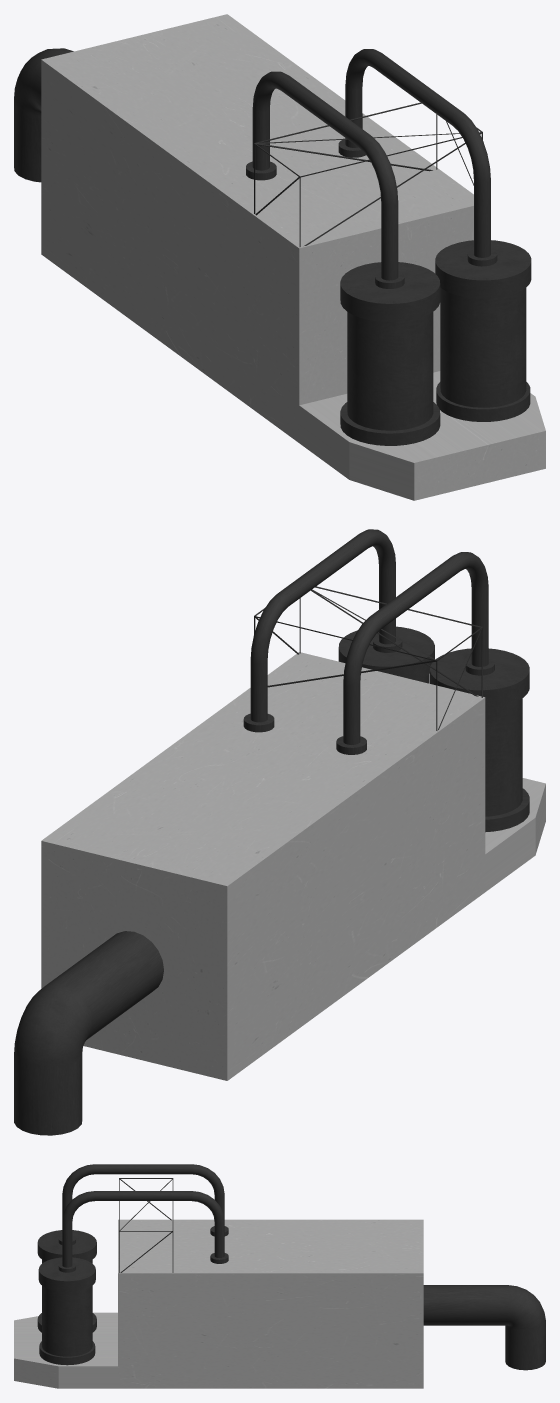
The model's file is epurateur.fbx.
3 renders of one model, top to bottom at view 1: azimuth 30°, elevation 25°; view 2: azimuth 150°, elevation 25°; view 3: azimuth 270°, elevation 25°, orthographic. The views are drawn at different scales.
Visible parts, largest first — view 1: Cube, Cylinder.001, Cylinder, Cube.002, Cube.001, Cube.003, Cube.004; view 2: Cube, Cube.003, Cylinder.001, Cube.002, Cube.001, Cylinder, Cube.004; view 3: Cube, Cube.003, Cylinder, Cube.001, Cube.002, Cylinder.001, Cube.004.
Part boxes in pixels (box(x1,y1,x2,y2)): Cube: box(41, 14, 545, 500); Cylinder.001: box(340, 262, 440, 445); Cylinder: box(435, 240, 531, 421); Cube.002: box(246, 71, 404, 288); Cube.001: box(338, 49, 497, 266); Cube.003: box(14, 48, 73, 182); Cube.004: box(254, 102, 482, 246); Cube: box(41, 652, 545, 1080); Cube.003: box(14, 931, 163, 1135); Cylinder.001: box(430, 648, 529, 832); Cube.002: box(336, 552, 494, 754); Cube.001: box(243, 529, 402, 732); Cylinder: box(338, 626, 434, 683); Cube.004: box(254, 586, 482, 730); Cube: box(14, 1219, 423, 1388); Cube.003: box(423, 1285, 545, 1370); Cylinder: box(38, 1257, 95, 1365); Cube.001: box(58, 1191, 228, 1272); Cube.002: box(58, 1164, 228, 1244); Cylinder.001: box(37, 1230, 96, 1332); Cube.004: box(119, 1178, 173, 1272).
Size of the model in its own units: 250 by 399 by 1044.
2 materials, 2 textured.
